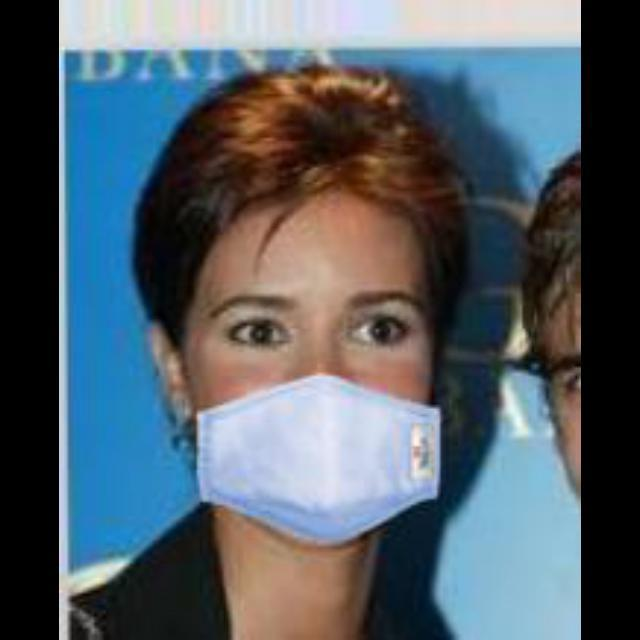suspicion: (140, 102, 516, 560)
